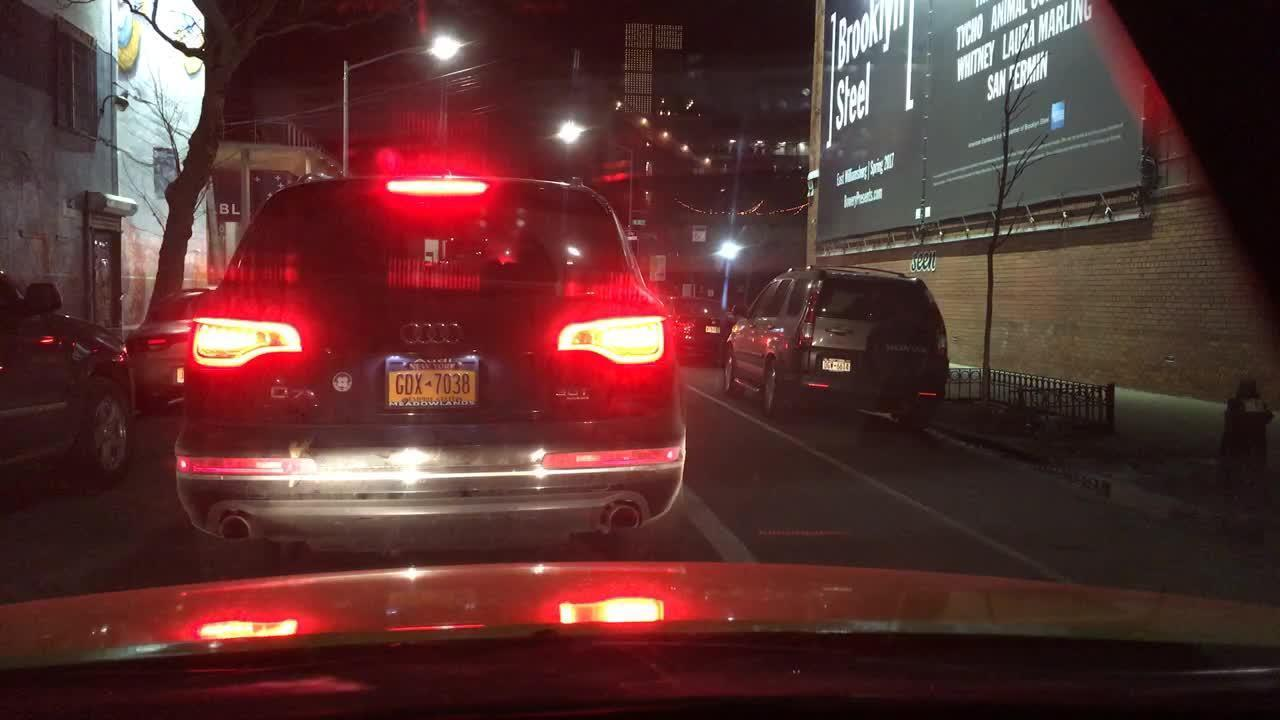Audi: (398, 319, 466, 351)
